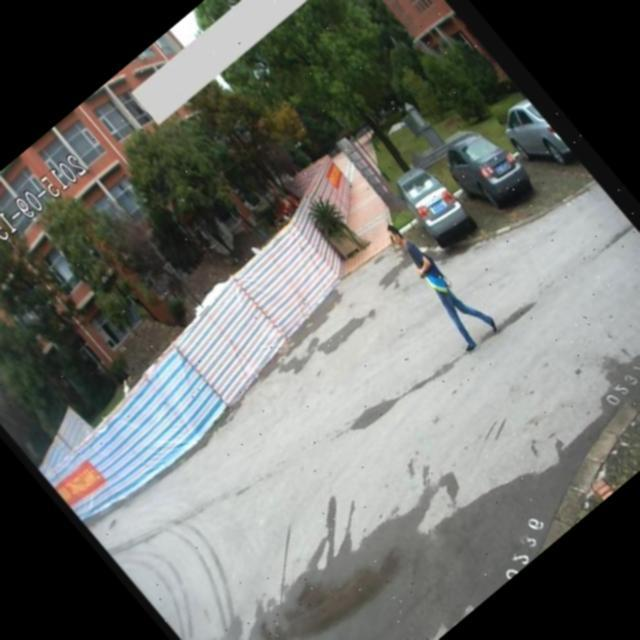person: (368, 209, 508, 364)
